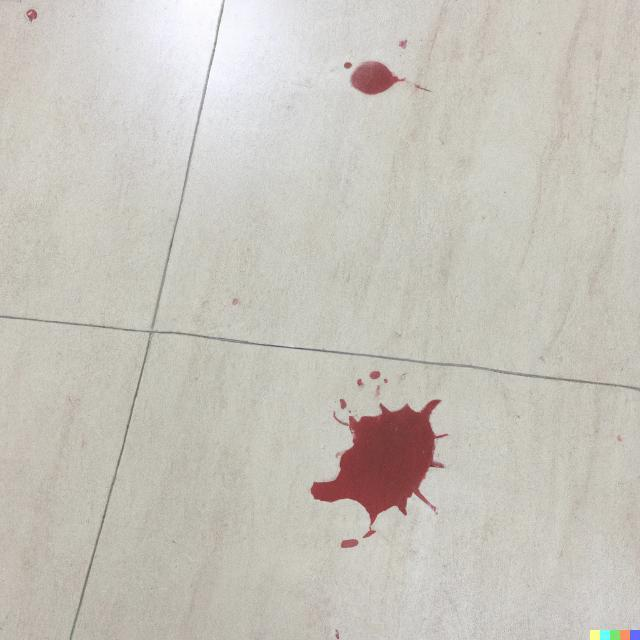blood: (309, 399, 449, 538), (350, 61, 405, 95), (341, 539, 359, 548), (369, 370, 381, 379), (343, 61, 352, 69), (339, 399, 346, 409), (356, 378, 362, 386)
